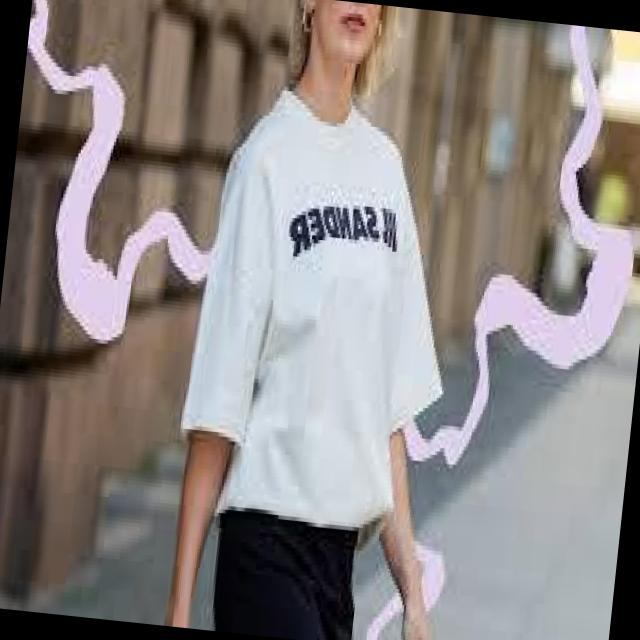Tshirt: (168, 75, 475, 538)
